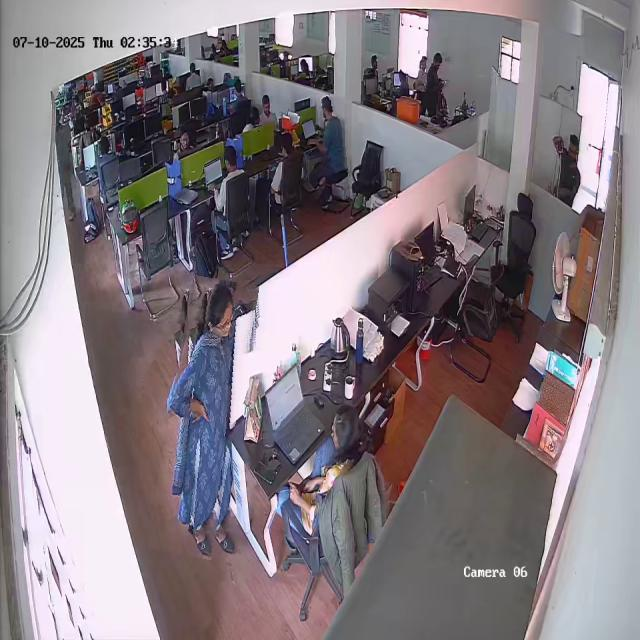person: (157, 277, 248, 559), (318, 94, 346, 172)
